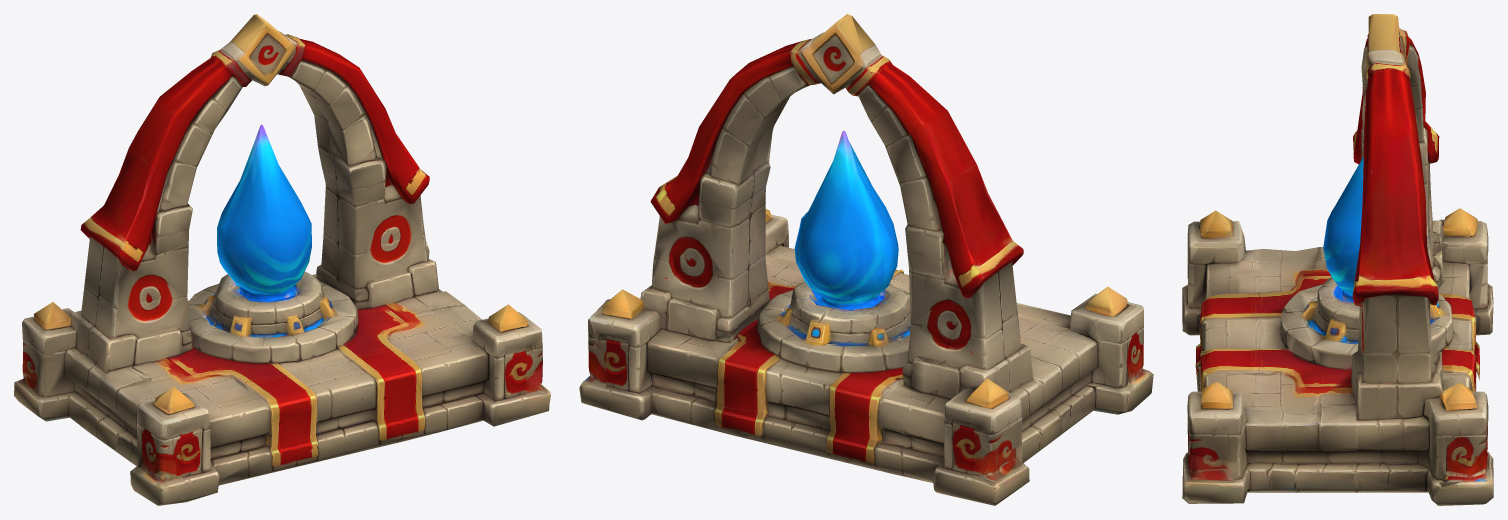
Rendered from Meshy_AI_Azure_Tear_Gate_0508153805_texture.fbx.
3 renders of one model, left to right at view 1: azimuth 30°, elevation 25°; view 2: azimuth 150°, elevation 25°; view 3: azimuth 270°, elevation 25°, orthographic. The views are drawn at different scales.
Parts seen in each view (by area): view 1: Mesh_0; view 2: Mesh_0; view 3: Mesh_0.
Boxes of the visible parts, x1,y1,x2,y2 form: Mesh_0: (14, 14, 550, 505); Mesh_0: (579, 14, 1153, 505); Mesh_0: (1182, 14, 1493, 505).
Bounding box in the file's own units: 191 × 172 × 124.
1 material, 1 textured.
